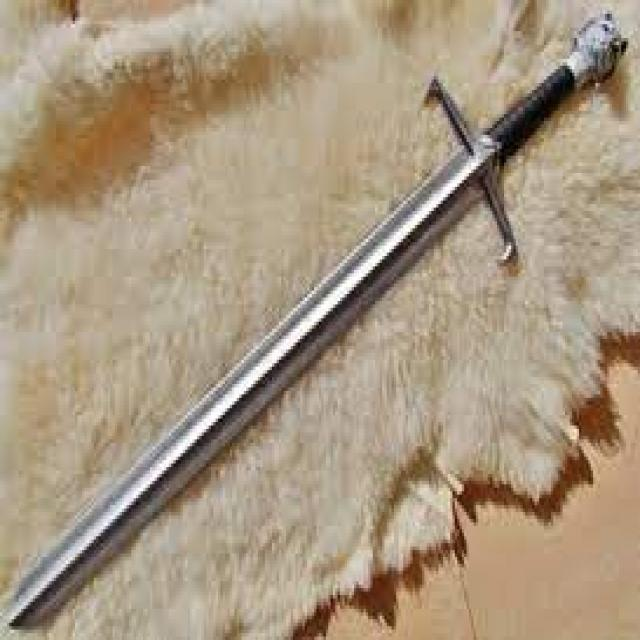long sword: (8, 11, 630, 635)
